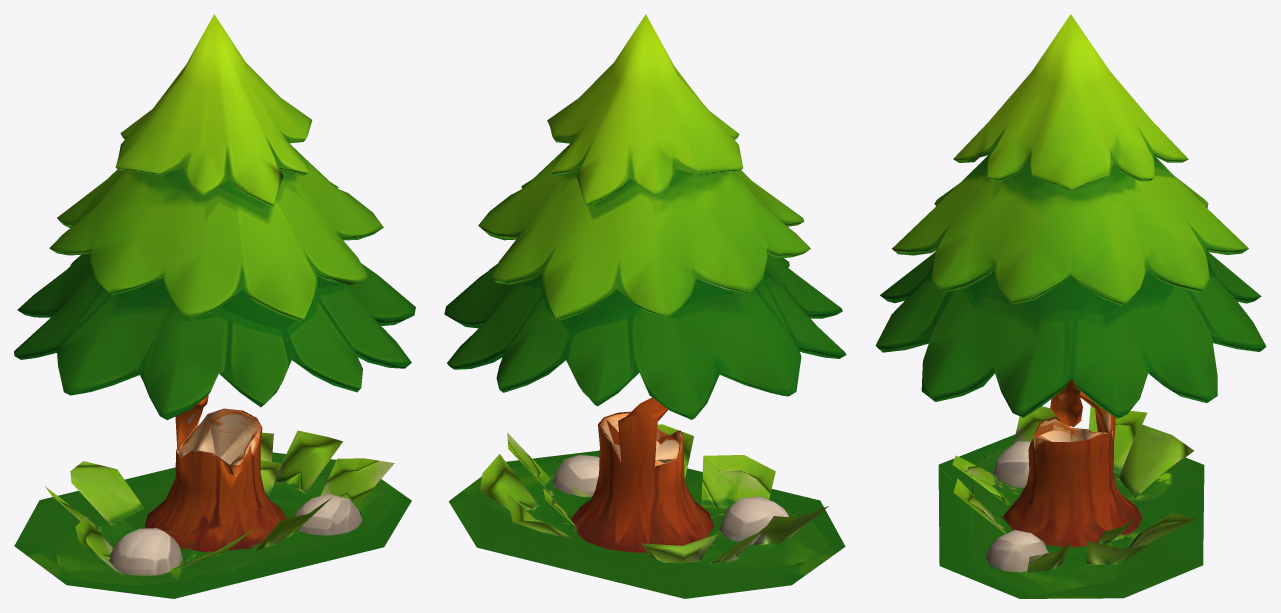
File: etapa75.glb
3 views of the same model, side by side, from view 1: azimuth 30°, elevation 25°; view 2: azimuth 150°, elevation 25°; view 3: azimuth 270°, elevation 25° (orthographic).
Size of the model in its own units: 0.7244 by 1 by 0.7058.
1 material, 1 textured.
